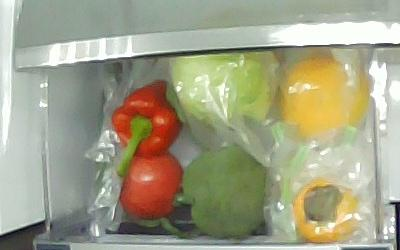apple: (118, 150, 183, 218)
broccoli: (181, 148, 269, 239)
grapefruit_vinyl: (276, 54, 370, 145)
lettuce_vinyl: (168, 50, 277, 125)
paprika: (109, 78, 183, 174)
persimmon_vinyl: (291, 180, 358, 241)
